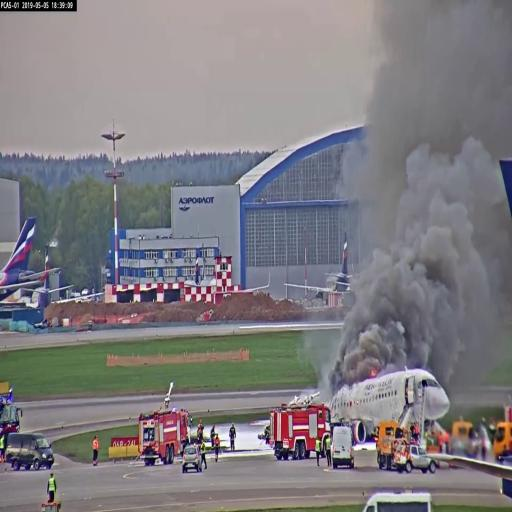smoke: (343, 15, 490, 367)
